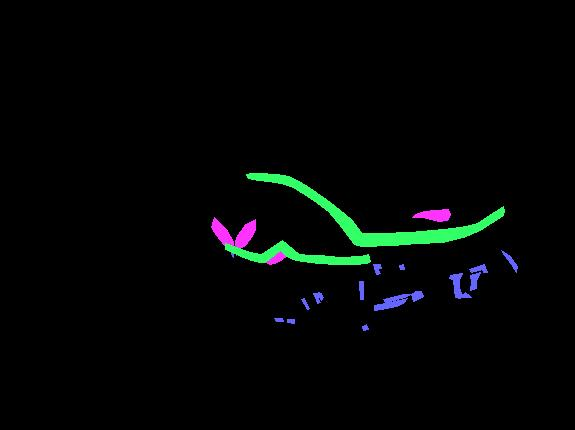Broken part: (246, 173, 504, 246), (225, 240, 370, 264)
Dent: (211, 217, 233, 249), (234, 219, 255, 248), (261, 247, 288, 264), (412, 209, 450, 221)
Scratch: (374, 298, 407, 310), (501, 250, 517, 272), (449, 273, 462, 298), (383, 294, 410, 302), (470, 272, 480, 290), (469, 264, 487, 272), (411, 291, 423, 301), (301, 298, 309, 309), (373, 264, 381, 274), (359, 281, 363, 299), (313, 293, 320, 303), (460, 292, 471, 297), (318, 292, 323, 300), (362, 324, 368, 330), (287, 319, 294, 323), (274, 318, 283, 321), (399, 264, 404, 269), (231, 249, 233, 257), (235, 250, 236, 255)
